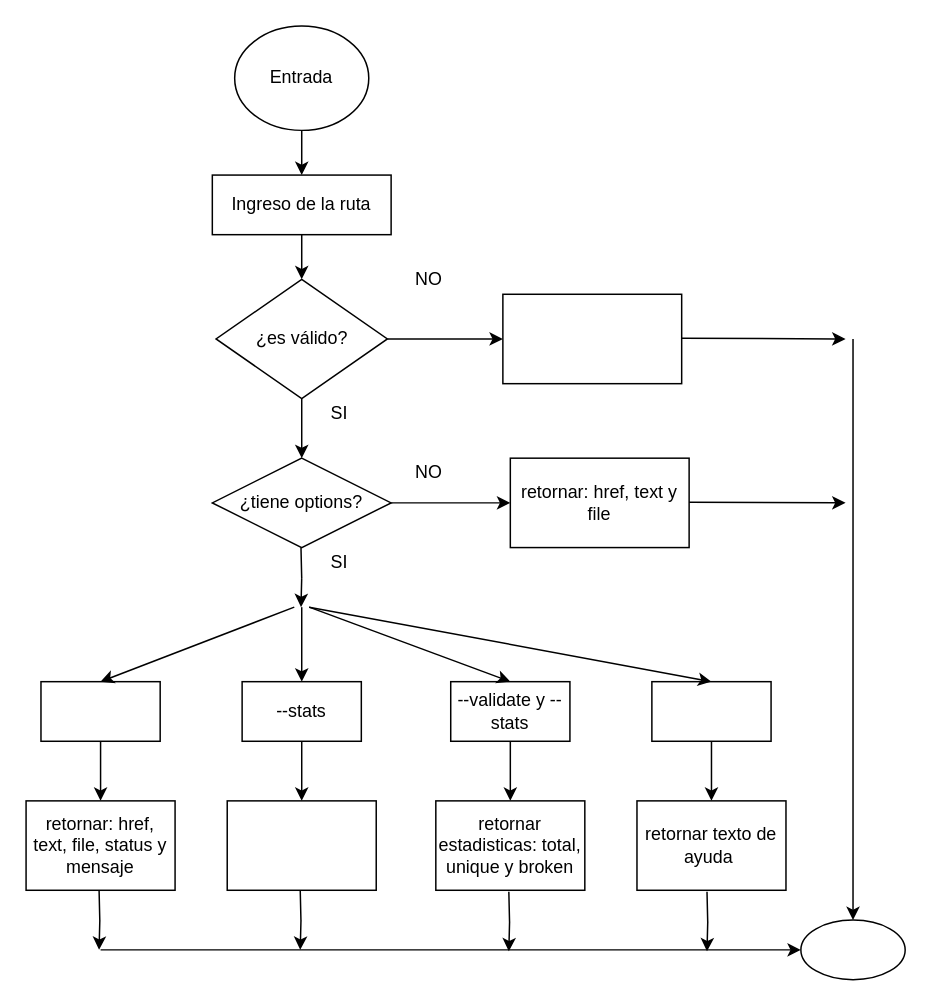
The diagram is 931 pixels wide and 1006 high, and some of its shapes have lost their labels. The centre of each missing label's shape, as x and y in pixels:
--help: point 710,710
--validate: point 99,710
mensaje : "path does not exist": point 591,338
retornar estadisticas: total y unique: point 301,844
salida: point 852,949
